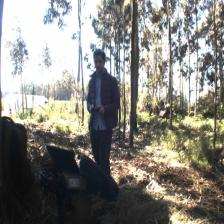trunktrack_idkeyframe: (129, 46, 138, 129)
